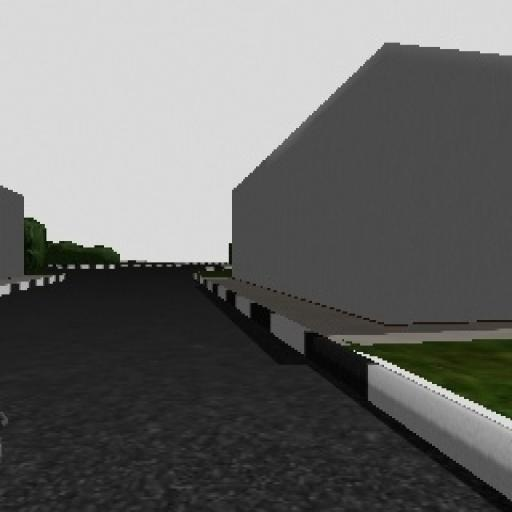huskya200: (0, 399, 18, 510)
